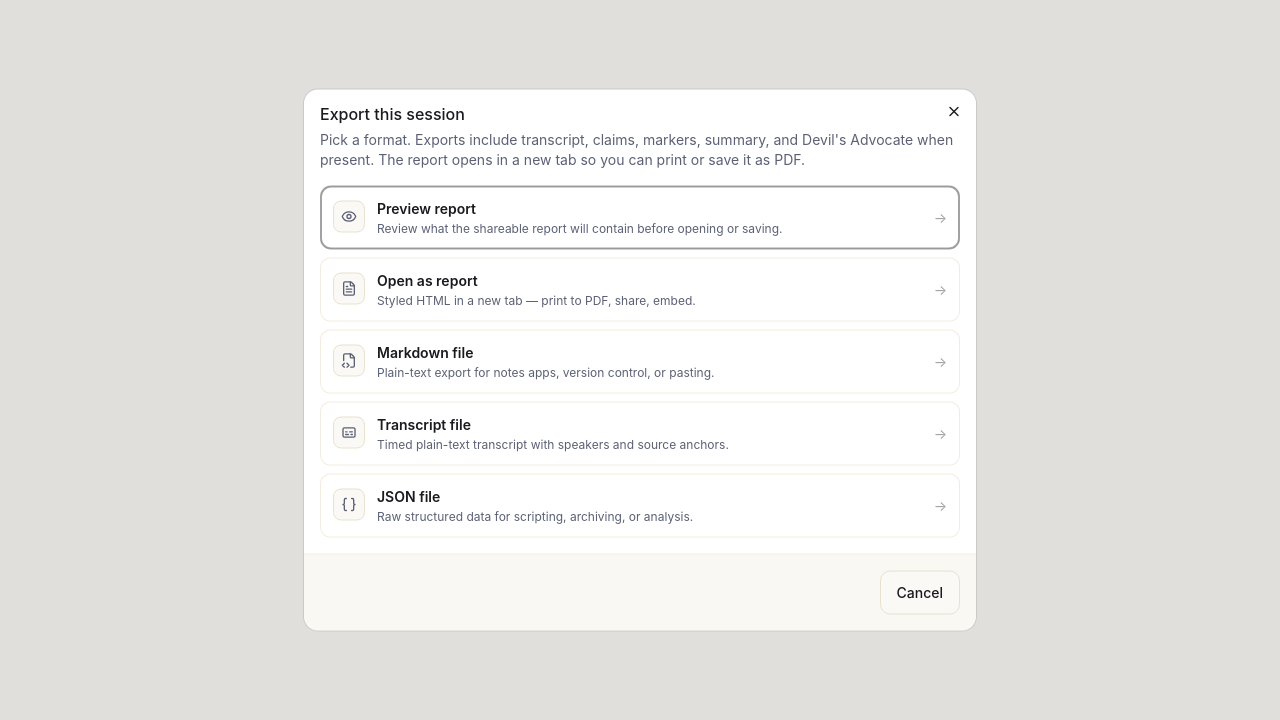
it: ExportDialog › shows a visible error and keeps the dialog open when export fails
Click the button "Open as report": {"x": 640, "y": 290} [320,258,960,322]
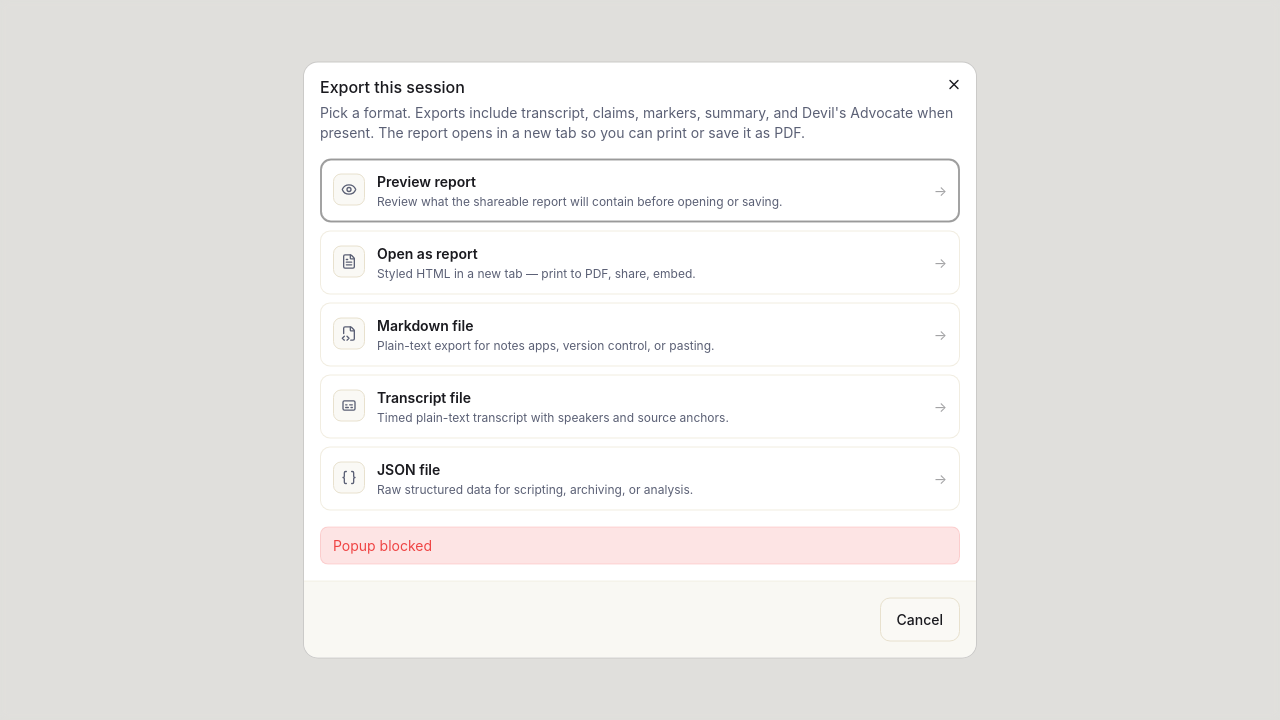
expect the message reads "Popup blocked": met, box [333,536,432,554]
